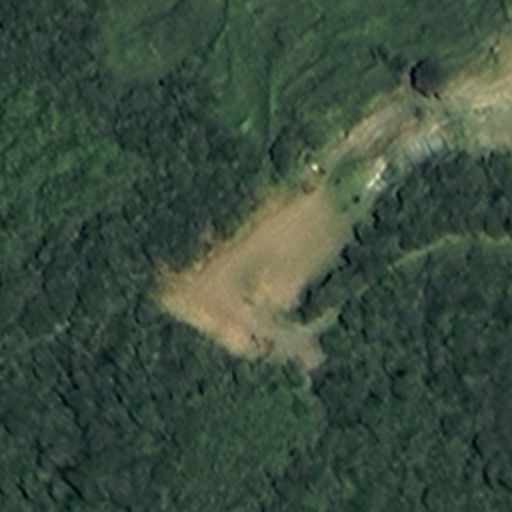landslide: (160, 124, 391, 361)
